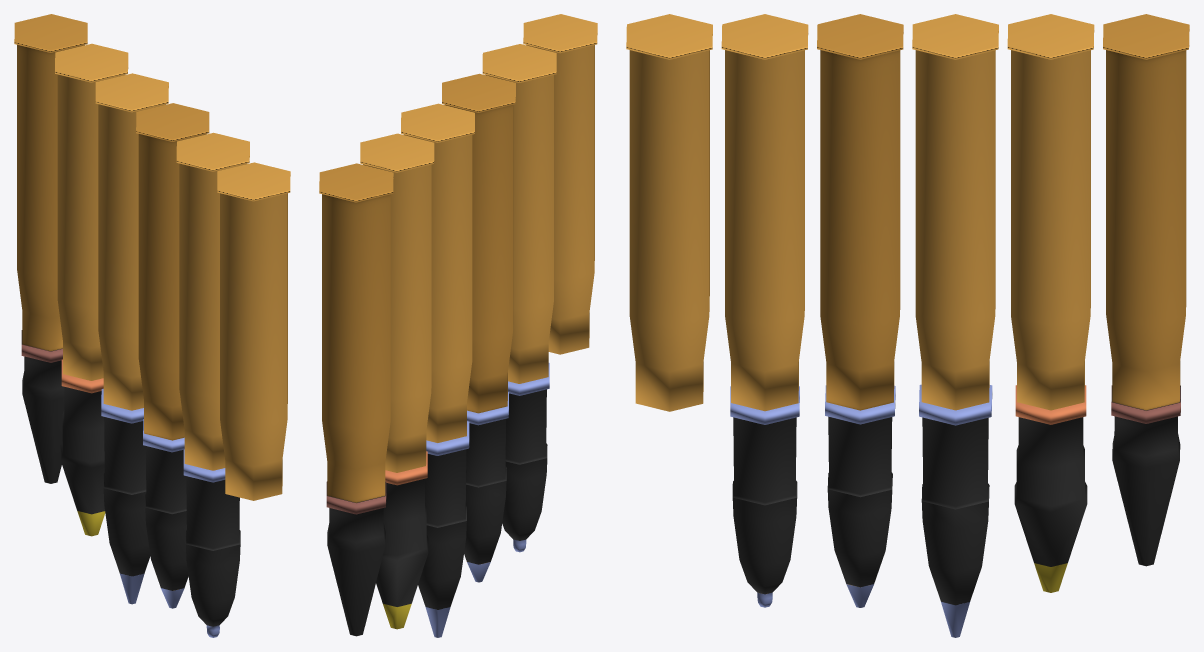
Rendered from pzIV_ammo.glb.
3 renders of one model, left to right at view 1: azimuth 30°, elevation 25°; view 2: azimuth 150°, elevation 25°; view 3: azimuth 270°, elevation 25°, orthographic. The views are drawn at different scales.
Visible parts, largest first — view 1: shell.005, shell.002, shell.004, shell.003, shell.001, shell; view 2: shell, shell.004, shell.001, shell.002, shell.003, shell.005; view 3: shell.004, shell.003, shell.002, shell.001, shell, shell.005.
Part boxes in pixels (x1,y1,x2,y2): shell.005: (217,162,290,500); shell.002: (176,132,249,637); shell.004: (95,73,168,604); shell.003: (136,103,209,608); shell.001: (55,43,128,536); shell: (14,14,87,483); shell: (319,163,393,636); shell.004: (401,103,474,637); shell.001: (360,133,434,629); shell.002: (482,44,556,552); shell.003: (442,73,515,582); shell.005: (523,14,597,354); shell.004: (912,14,998,637); shell.003: (817,14,903,607); shell.002: (721,14,808,607); shell.001: (1007,14,1094,592); shell: (1103,14,1189,566); shell.005: (626,14,712,411).
Size of the model in its own units: 0.1252 by 0.8348 by 0.709.
Materials: 7 (2 with a texture image).
